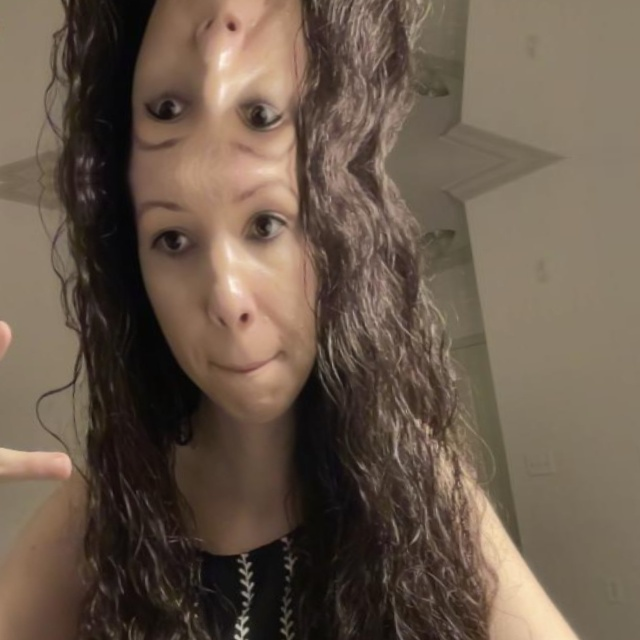Scissors: (0, 0, 67, 63)
